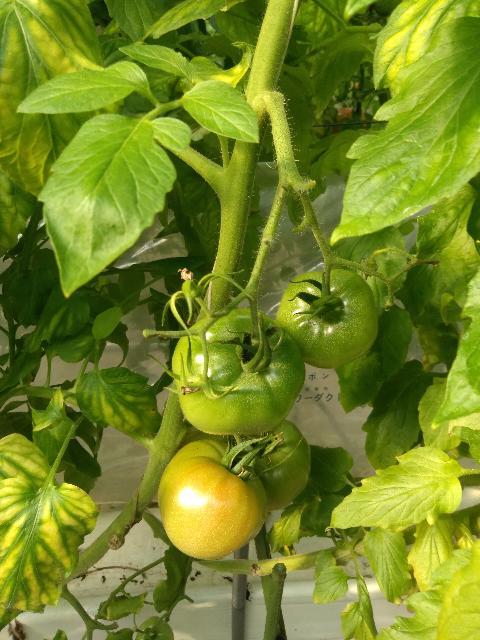b_green: (171, 306, 306, 435), (196, 420, 311, 511), (275, 269, 378, 369), (135, 616, 174, 640)
b_half_ripened: (158, 439, 267, 560)
